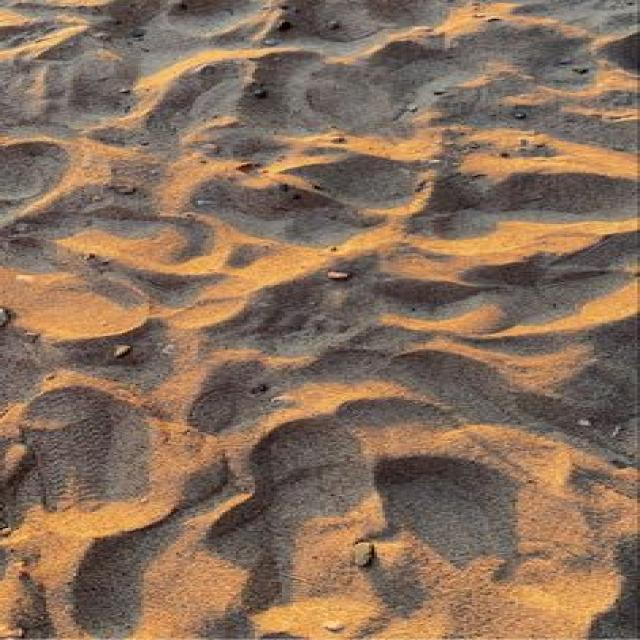white-sand: (0, 0, 639, 639)
